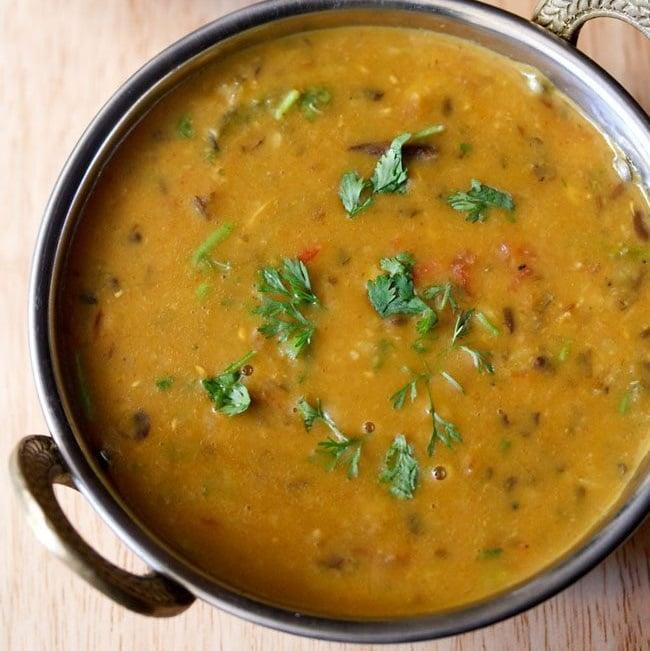dal: (72, 23, 650, 629)
